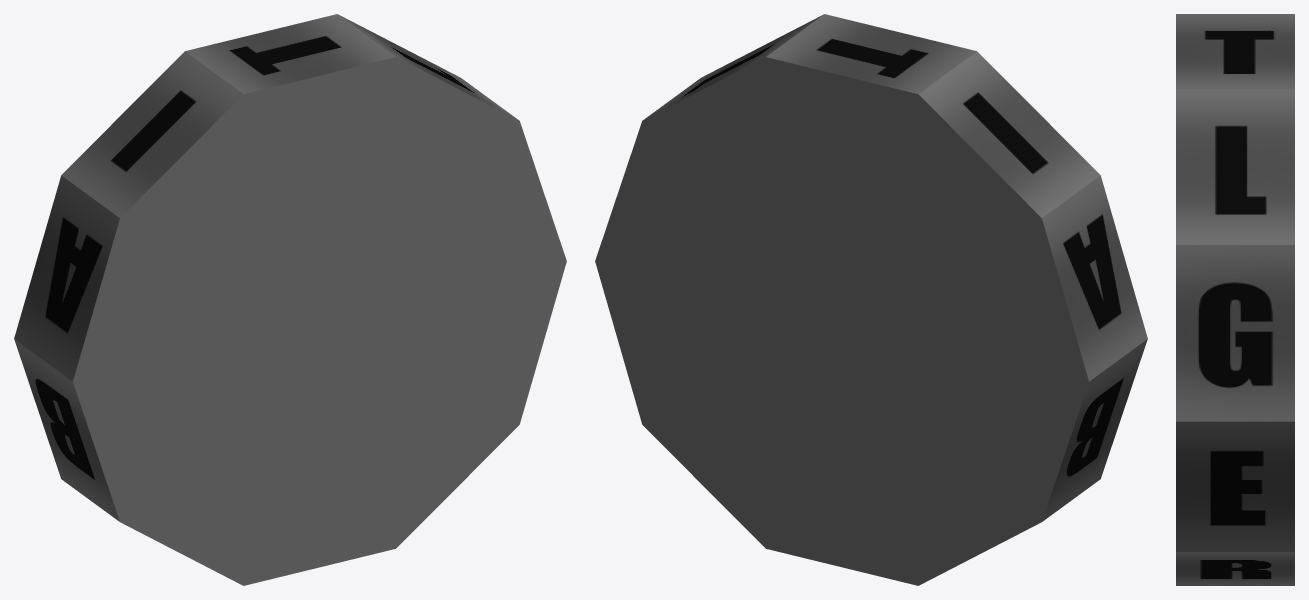
The model's file is letterpuzzle letters.fbx.
3 views of the same model, side by side, from view 1: azimuth 30°, elevation 25°; view 2: azimuth 150°, elevation 25°; view 3: azimuth 270°, elevation 25° (orthographic).
Parts seen in each view (by area): view 1: pCylinder21; view 2: pCylinder21; view 3: pCylinder21.
Part boxes in pixels (x1,y1,x2,y2): pCylinder21: [14, 14, 566, 585]; pCylinder21: [595, 14, 1147, 585]; pCylinder21: [1176, 14, 1294, 585].
Size of the model in its own units: 2 by 1.9 by 0.4123.
